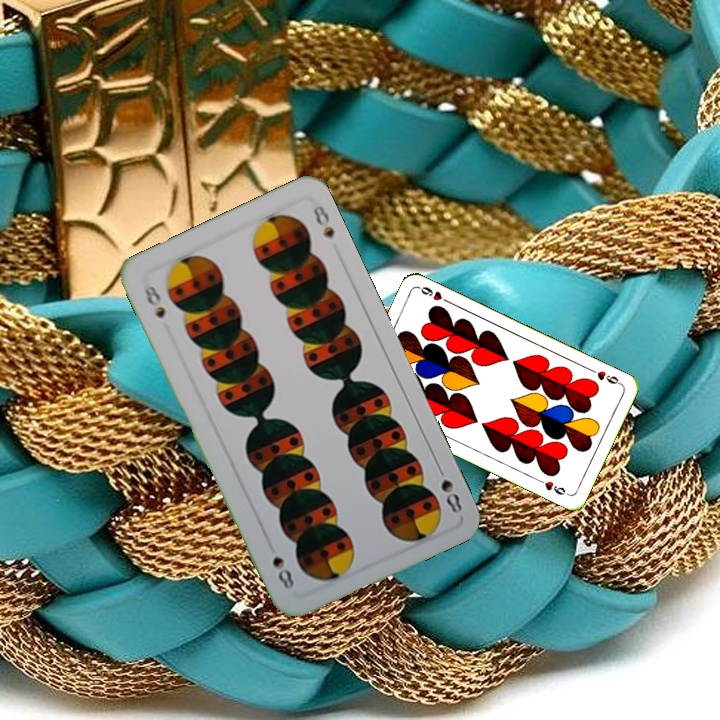H9: (585, 365, 624, 387)
S8: (432, 460, 465, 516), (140, 280, 168, 322)
